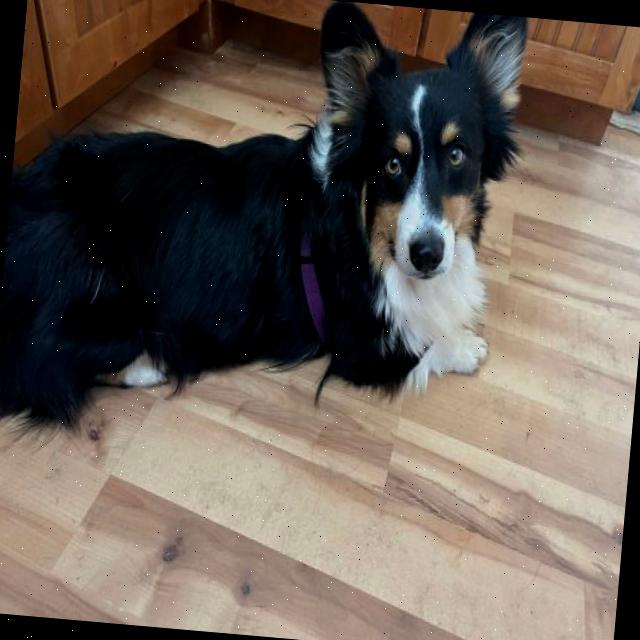corgi_dog: (286, 2, 538, 304)
